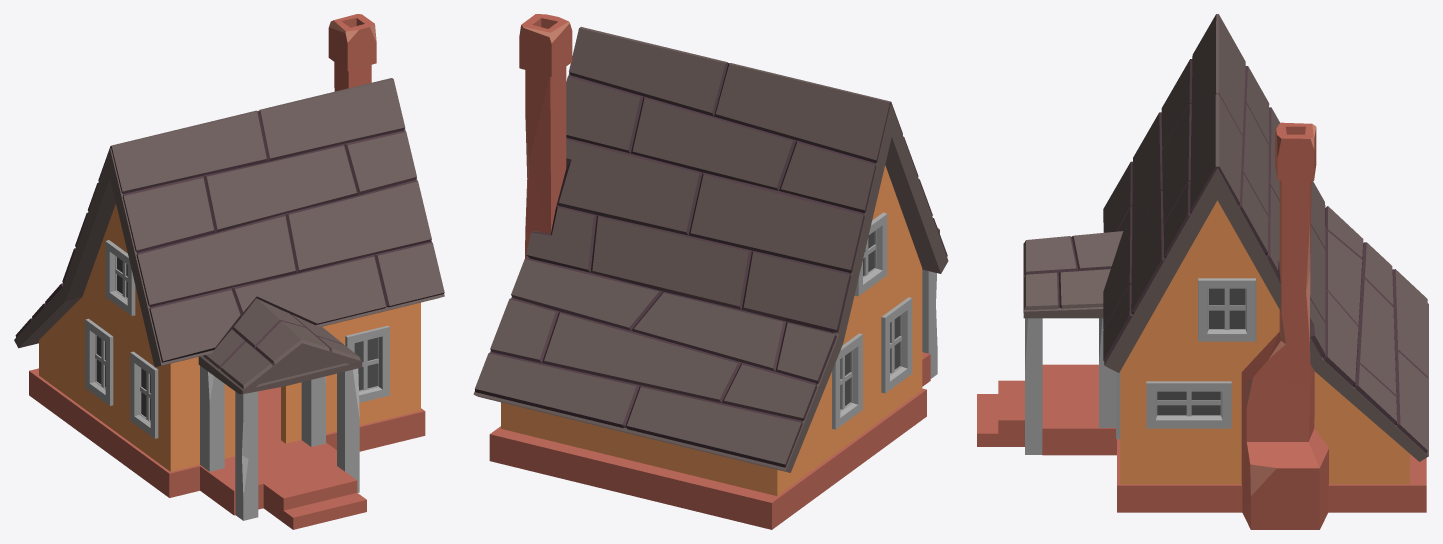
File: House_4.fbx
3 views of the same model, side by side, from view 1: azimuth 30°, elevation 25°; view 2: azimuth 150°, elevation 25°; view 3: azimuth 270°, elevation 25° (orthographic). The views are drawn at different scales.
Parts seen in each view (by area): view 1: House_4.001; view 2: House_4.001; view 3: House_4.001.
Part boxes in pixels (box(x1,y1,x2,y2)): House_4.001: box(14, 14, 444, 529); House_4.001: box(473, 14, 948, 529); House_4.001: box(977, 14, 1428, 529).
Size of the model in its own units: 191 by 210 by 222.
